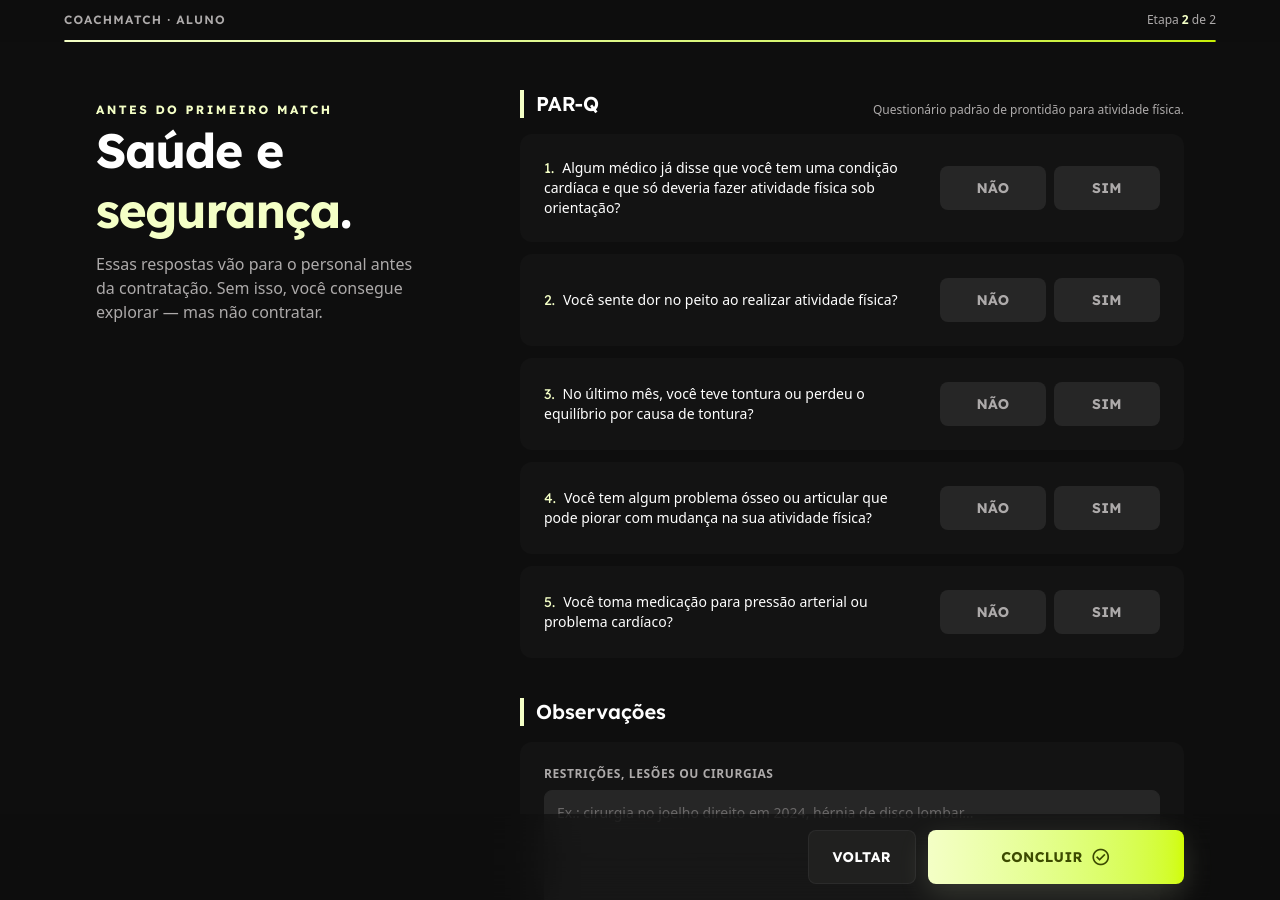
Test: ClientHealthFormPage › mostra erros de validação ao concluir sem responder tudo
The width and height of the screenshot is (1280, 900).
Click the button "CONCLUIR": coordinates (1056, 857) [928,830,1184,884]
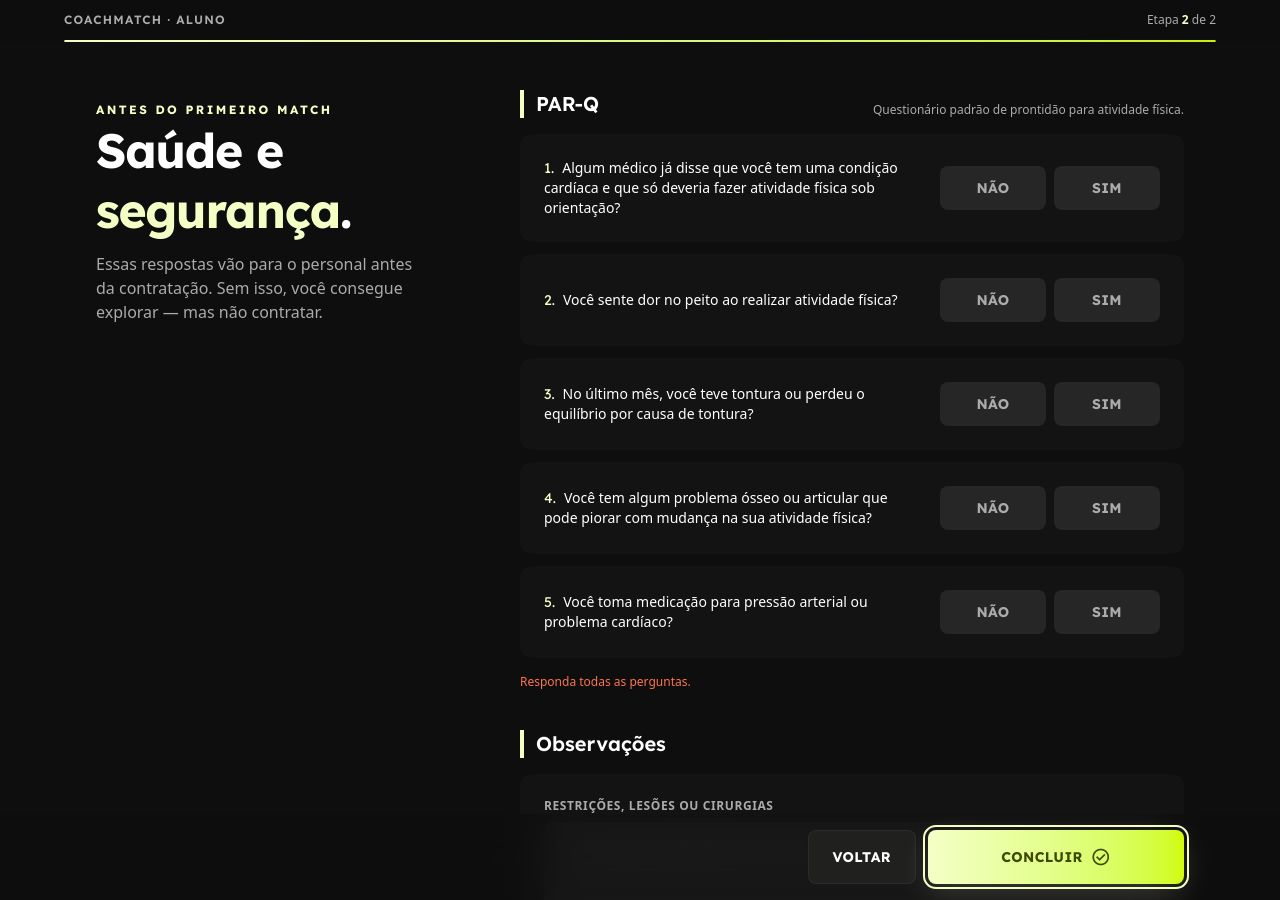
Expected: the text "Responda todas as perguntas." is shown, [520,673,691,690]
